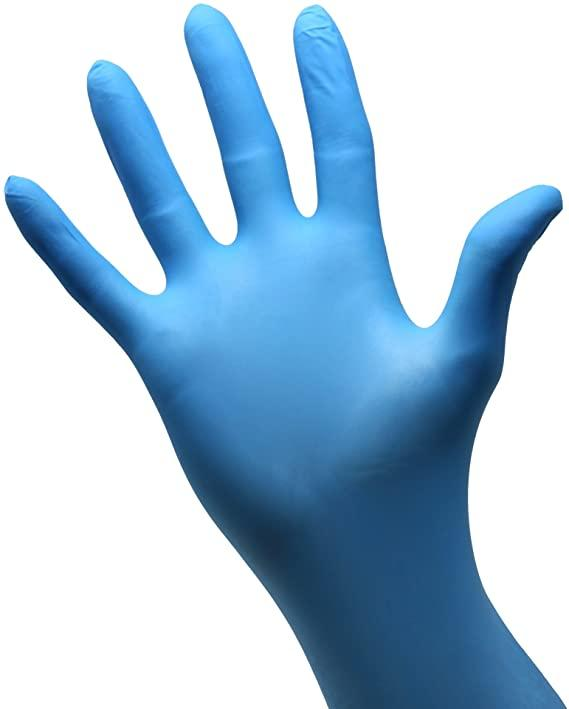gloves: (0, 6, 559, 702)
